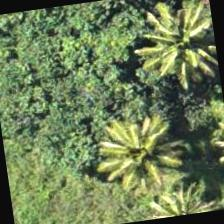Kelapa_Sawit: (132, 0, 221, 87)
